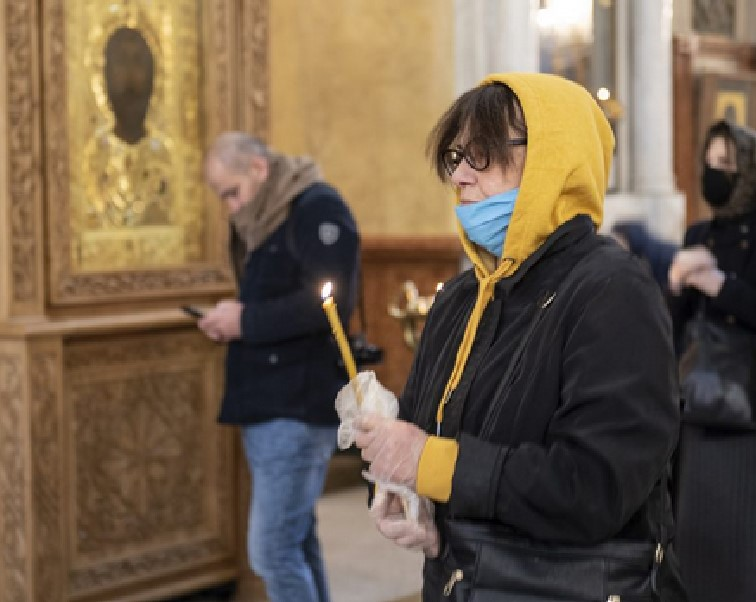face_with_mask: (439, 72, 609, 257)
